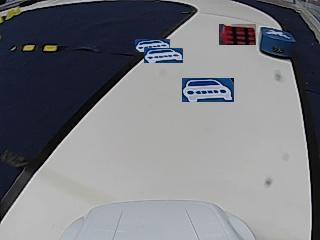prop: (259, 26, 296, 60)
